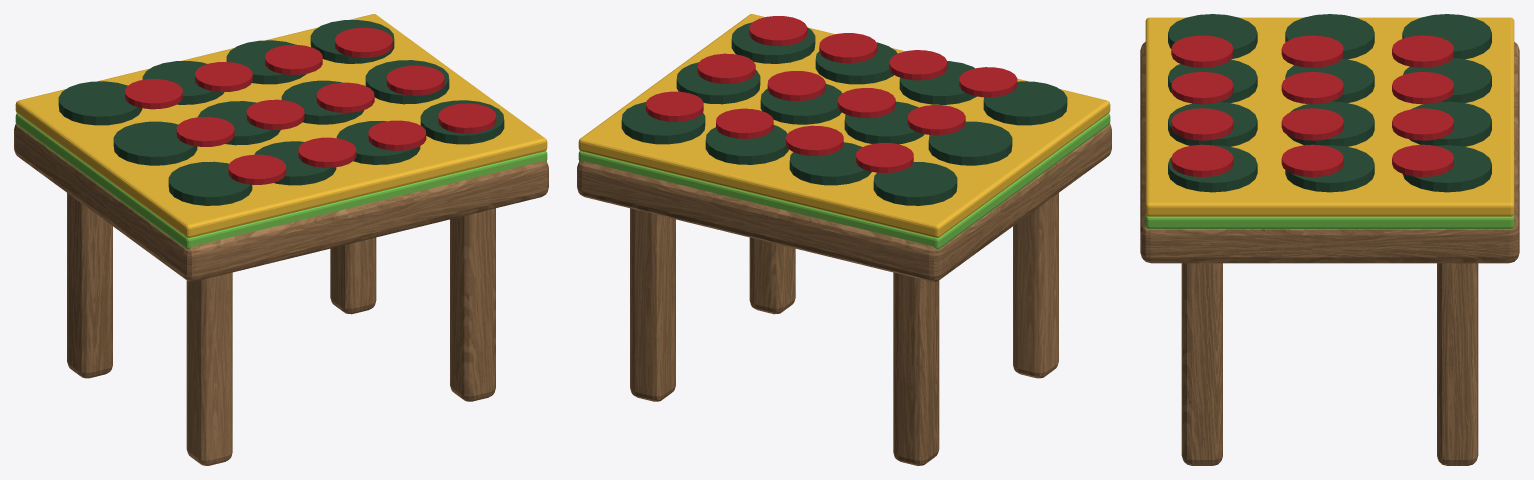
File: hiperreal.glb
3 views of the same model, side by side, from view 1: azimuth 30°, elevation 25°; view 2: azimuth 150°, elevation 25°; view 3: azimuth 270°, elevation 25° (orthographic). The views are drawn at different scales.
Parts seen in each view (by area): view 1: Sandwich layer.002, Table top, Leg.001, Leg.003, Leg, Sandwich layer.001, Leg.002, Cucumber slice, Cucumber slice.001, Cucumber slice.002, Cucumber slice.011, Cucumber slice.010 (+19 smaller); view 2: Sandwich layer.002, Table top, Leg, Leg.002, Leg.001, Sandwich layer.001, Leg.003, Cucumber slice, Cucumber slice.001, Cucumber slice.002, Cucumber slice.003, Cucumber slice.006 (+19 smaller); view 3: Sandwich layer.002, Table top, Leg.002, Leg.003, Sandwich layer.001, Cucumber slice, Cucumber slice.001, Cucumber slice.002, Cucumber slice.009, Cucumber slice.010, Cucumber slice.006, Cucumber slice.011 (+17 smaller).
Boxes of the visible parts, x1,y1,x2,y2 form: Sandwich layer.002: [15, 14, 547, 237]; Table top: [14, 124, 548, 281]; Leg.001: [186, 272, 232, 465]; Leg.003: [450, 208, 495, 401]; Leg: [67, 193, 112, 378]; Sandwich layer.001: [15, 113, 547, 249]; Leg.002: [330, 237, 376, 314]; Cucumber slice: [58, 81, 142, 125]; Cucumber slice.001: [113, 121, 197, 165]; Cucumber slice.002: [168, 161, 252, 205]; Cucumber slice.011: [420, 100, 504, 144]; Cucumber slice.010: [365, 60, 449, 104]; Sandwich layer.002: [578, 14, 1110, 237]; Table top: [577, 124, 1111, 281]; Leg: [893, 272, 939, 465]; Leg.002: [630, 208, 675, 401]; Leg.001: [1013, 193, 1058, 378]; Sandwich layer.001: [578, 113, 1110, 249]; Leg.003: [749, 237, 795, 314]; Cucumber slice: [873, 162, 957, 205]; Cucumber slice.001: [928, 121, 1012, 165]; Cucumber slice.002: [983, 81, 1067, 125]; Cucumber slice.003: [789, 142, 871, 185]; Cucumber slice.006: [705, 125, 788, 164]; Sandwich layer.002: [1145, 17, 1514, 216]; Table top: [1140, 42, 1519, 263]; Leg.002: [1437, 263, 1478, 465]; Leg.003: [1181, 263, 1222, 465]; Sandwich layer.001: [1145, 214, 1514, 228]; Cucumber slice: [1402, 14, 1491, 59]; Cucumber slice.001: [1285, 14, 1374, 59]; Cucumber slice.002: [1168, 14, 1257, 58]; Cucumber slice.009: [1402, 145, 1491, 192]; Cucumber slice.010: [1285, 145, 1374, 192]; Cucumber slice.006: [1409, 101, 1491, 146]; Cucumber slice.011: [1168, 145, 1257, 192].
Size of the model in its own units: 1 by 0.7385 by 0.8462.
Materials: 5 (1 with a texture image).
